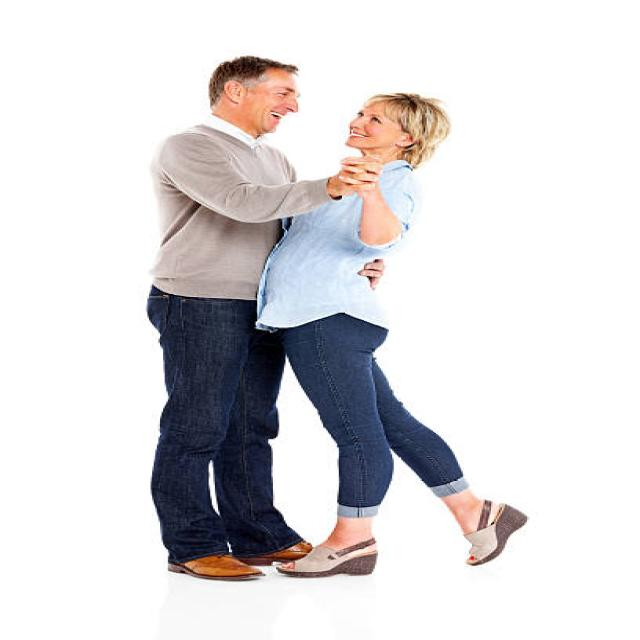Edited images: (114, 41, 536, 590)
